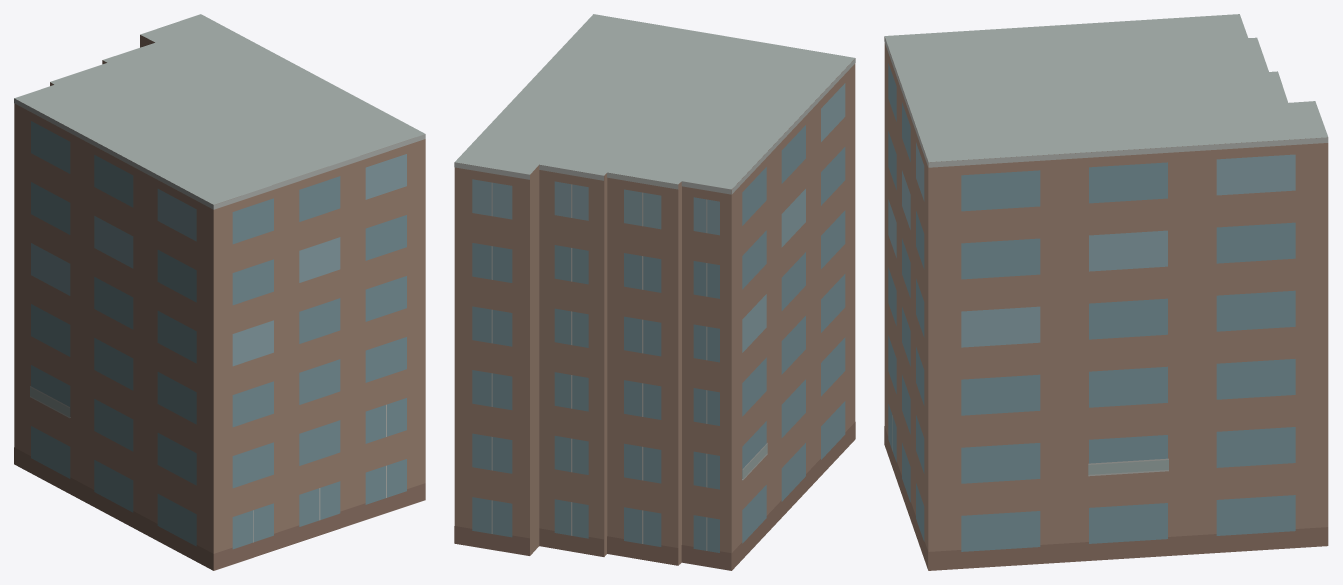
File: survey-upis-32850683.glb
3 views of the same model, side by side, from view 1: azimuth 30°, elevation 25°; view 2: azimuth 150°, elevation 25°; view 3: azimuth 270°, elevation 25° (orthographic). The views are drawn at different scales.
Parts seen in each view (by area): view 1: survey-upis-32850683.tmp; view 2: survey-upis-32850683.tmp; view 3: survey-upis-32850683.tmp.
Boxes of the visible parts, left/top/right/bottom form: survey-upis-32850683.tmp: left=14, top=14, right=425, bottom=570; survey-upis-32850683.tmp: left=454, top=14, right=855, bottom=570; survey-upis-32850683.tmp: left=884, top=14, right=1328, bottom=570.
Size of the model in its own units: 14.09 by 18.1 by 17.83.
